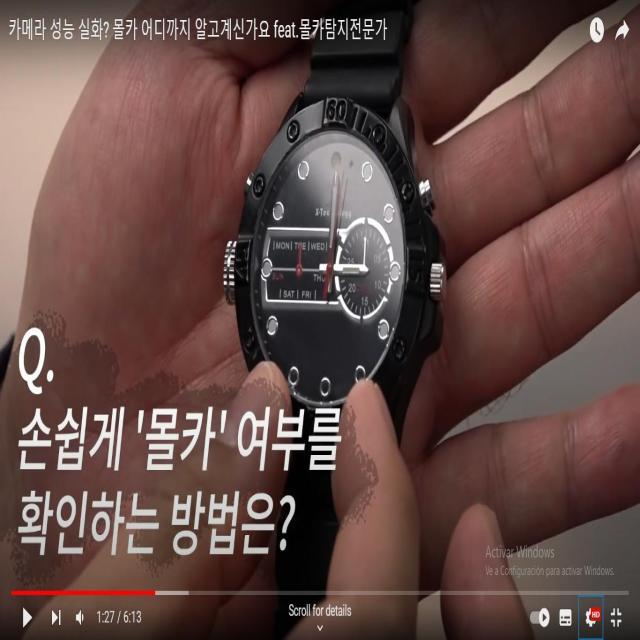hidden camera: (316, 367, 334, 408)
